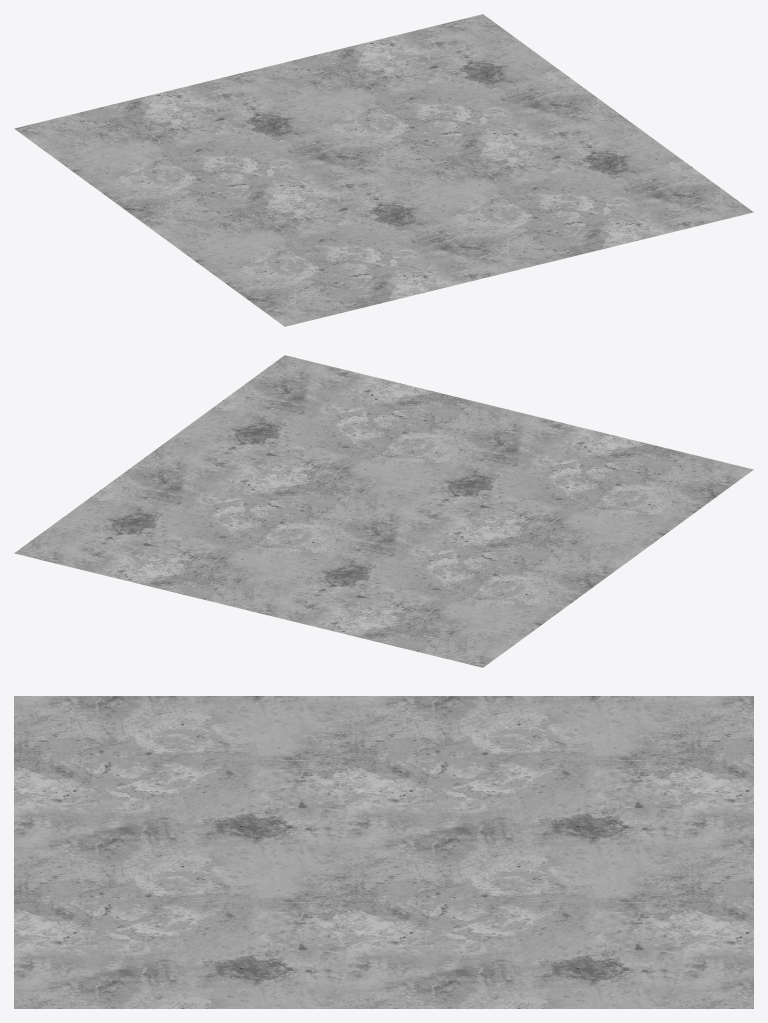
File: SM_Floor_08x08_02a.fbx
3 renders of one model, top to bottom at view 1: azimuth 30°, elevation 25°; view 2: azimuth 150°, elevation 25°; view 3: azimuth 270°, elevation 25°, orthographic. The views are drawn at different scales.
Visible parts, largest first — view 1: SM_Floor_08x08_02a_LOD0; view 2: SM_Floor_08x08_02a_LOD0; view 3: SM_Floor_08x08_02a_LOD0.
Boxes of the visible parts, x1,y1,x2,y2 form: SM_Floor_08x08_02a_LOD0: (14, 14, 753, 326); SM_Floor_08x08_02a_LOD0: (14, 355, 753, 667); SM_Floor_08x08_02a_LOD0: (14, 696, 753, 1008).
Bounding box in the file's own units: 880 × 880 × 1.07e-05.
